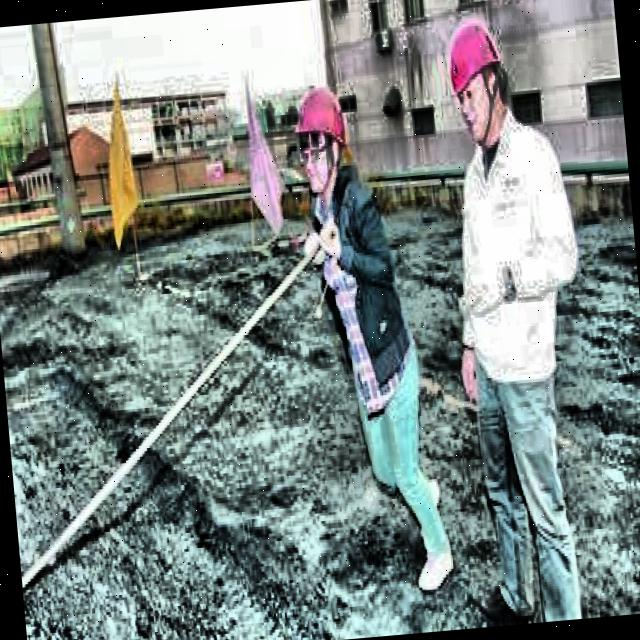helmet: (439, 13, 518, 154), (287, 78, 353, 204)
